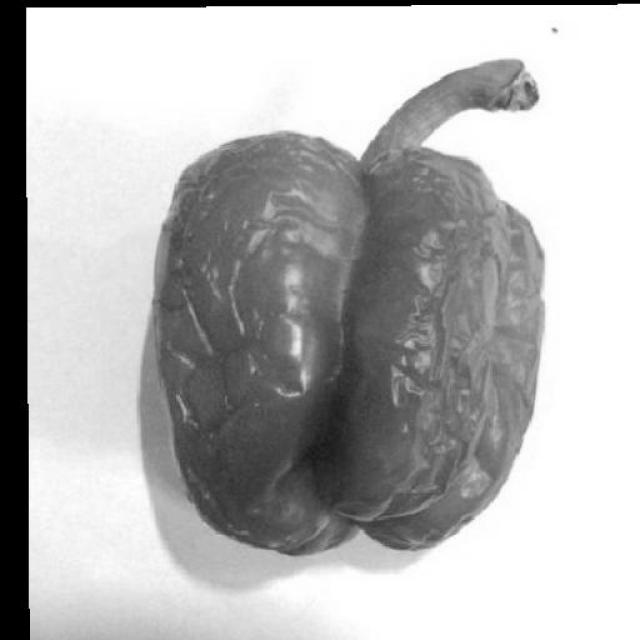Stale_Capsicum: (109, 69, 565, 549)
